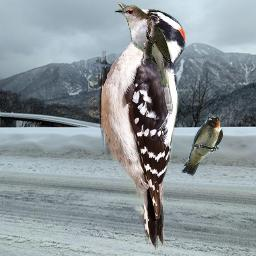Cuckoo: (114, 5, 173, 114)
Swallow: (180, 114, 223, 176)
Woodpecker: (88, 1, 189, 253)
